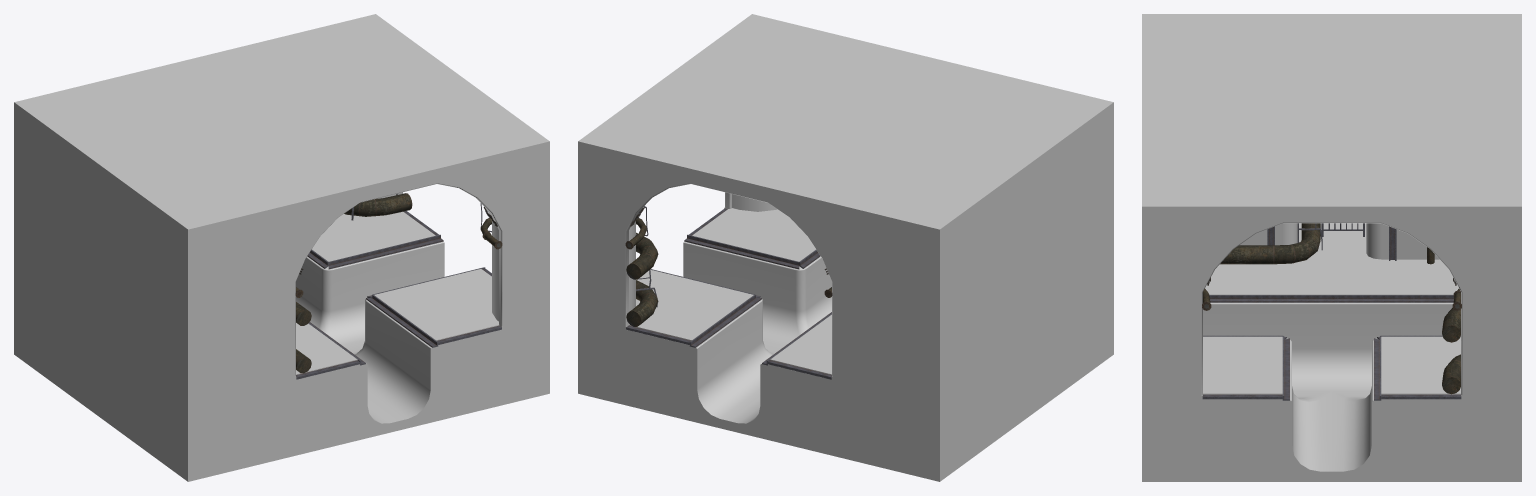
The model's file is SM_Sewer_Tunnel_C.fbx.
3 renders of one model, left to right at view 1: azimuth 30°, elevation 25°; view 2: azimuth 150°, elevation 25°; view 3: azimuth 270°, elevation 25°, orthographic. The views are drawn at different scales.
Parts seen in each view (by area): view 1: SM_Sewer_Tunnel_A3_Ceiling, SM_Sewer_Tunnel_A3_Base, Walls, Bulks_floor, Wall_Halos, Pipes_Big; view 2: SM_Sewer_Tunnel_A3_Ceiling, SM_Sewer_Tunnel_A3_Base, Walls, Bulks_floor, Wall_Halos, Pipes_Big; view 3: SM_Sewer_Tunnel_A3_Ceiling, SM_Sewer_Tunnel_A3_Base, Walls, Bulks_floor, Pipes_Big, Wall_Halos, Pipes_Small, Bulks_Wall2.
Part boxes in pixels (left/top/right/bottom): SM_Sewer_Tunnel_A3_Ceiling: left=14, top=14, right=549, bottom=308; SM_Sewer_Tunnel_A3_Base: left=14, top=211, right=549, bottom=481; Walls: left=14, top=181, right=549, bottom=402; Bulks_floor: left=296, top=211, right=501, bottom=379; Wall_Halos: left=293, top=180, right=505, bottom=377; Pipes_Big: left=296, top=193, right=411, bottom=373; SM_Sewer_Tunnel_A3_Ceiling: left=578, top=14, right=1113, bottom=308; SM_Sewer_Tunnel_A3_Base: left=578, top=207, right=1113, bottom=481; Walls: left=578, top=181, right=1113, bottom=402; Bulks_floor: left=626, top=208, right=831, bottom=379; Wall_Halos: left=622, top=181, right=834, bottom=377; Pipes_Big: left=626, top=232, right=658, bottom=326; SM_Sewer_Tunnel_A3_Ceiling: left=1142, top=14, right=1521, bottom=292; SM_Sewer_Tunnel_A3_Base: left=1142, top=223, right=1521, bottom=481; Walls: left=1142, top=223, right=1521, bottom=395; Bulks_floor: left=1202, top=295, right=1461, bottom=400; Pipes_Big: left=1220, top=223, right=1460, bottom=394; Wall_Halos: left=1198, top=219, right=1465, bottom=396; Pipes_Small: left=1202, top=247, right=1461, bottom=310; Bulks_Wall2: left=1267, top=226, right=1396, bottom=260.
Size of the model in its own units: 1200 by 800 by 1000.
